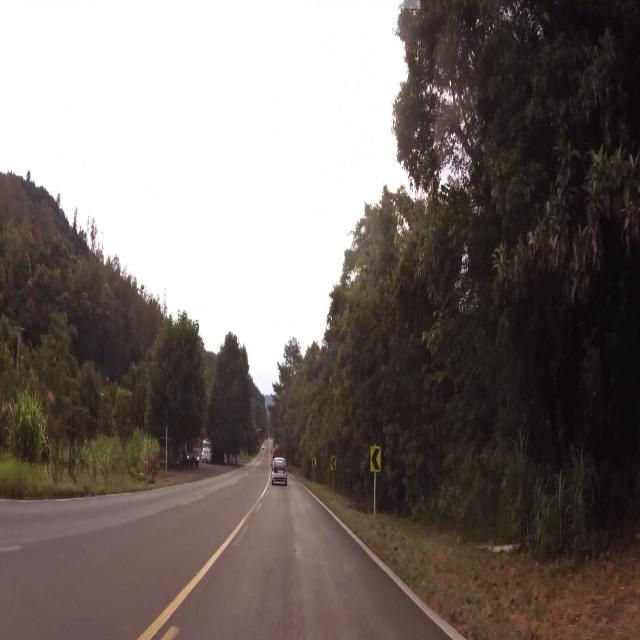Del: (369, 442, 384, 478)
